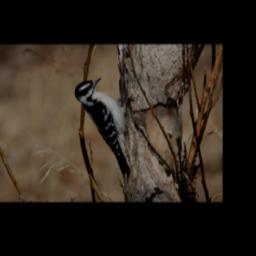Woodpecker: (74, 77, 138, 181)
